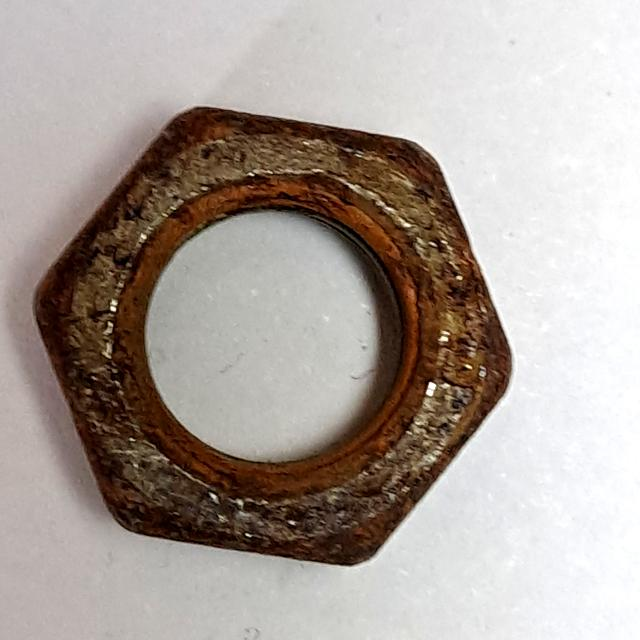Rust: (14, 94, 536, 584)
